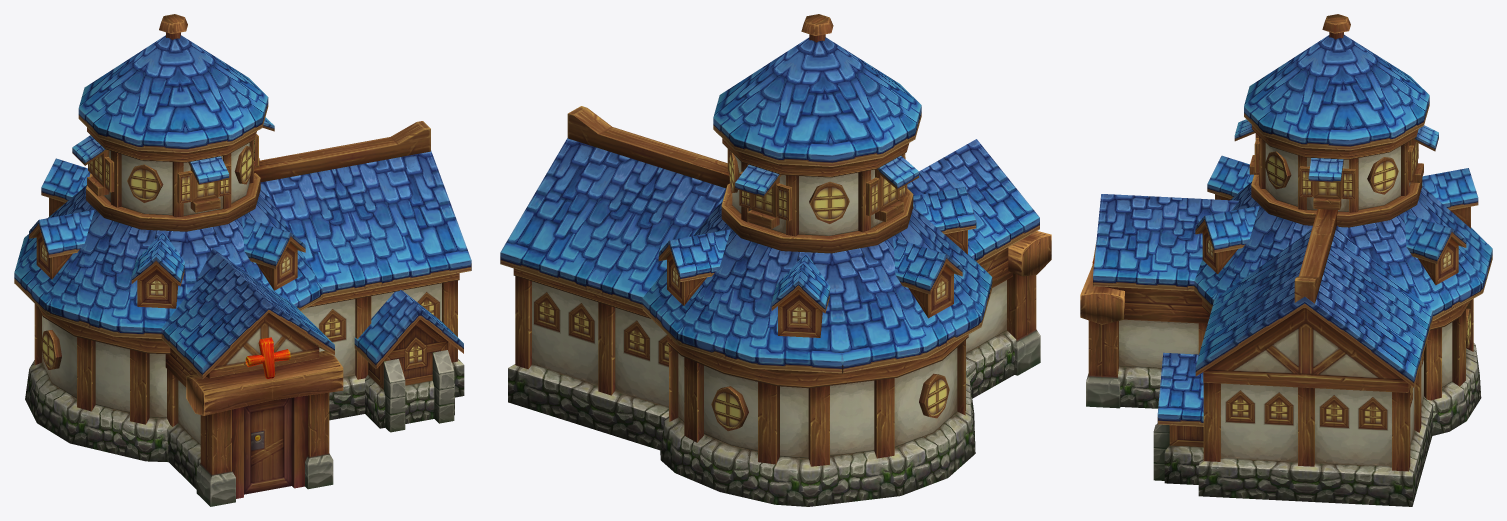
The model's file is Vinoy_fangzi01.FBX.
The picture shows the model from 3 angles, left to right: view 1: azimuth 30°, elevation 25°; view 2: azimuth 150°, elevation 25°; view 3: azimuth 270°, elevation 25°; orthographic projection. The views are drawn at different scales.
Visible parts, largest first — view 1: fangzi01; view 2: fangzi01; view 3: fangzi01.
Part boxes in pixels (x1,y1,x2,y2): fangzi01: (14,14,471,506); fangzi01: (500,14,1051,506); fangzi01: (1080,14,1492,506).
Size of the model in its own units: 254 by 238 by 239.
